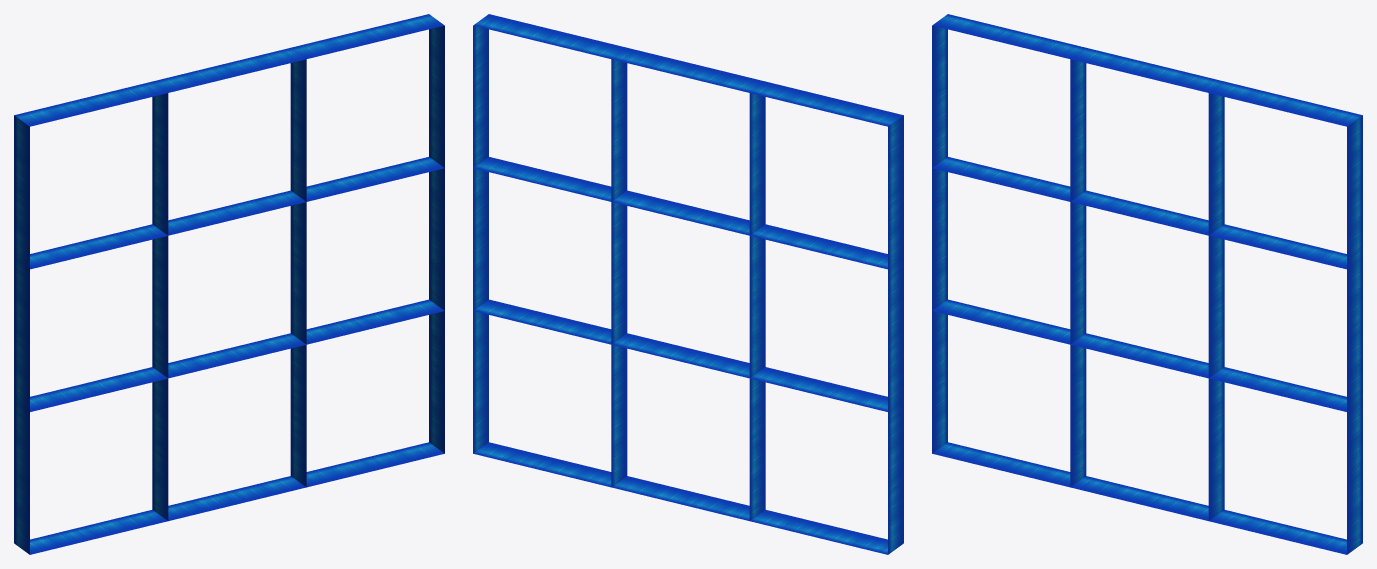
File: tx_shenjie_fuben_03_jiugongge_01.obj
3 views of the same model, side by side, from view 1: azimuth 30°, elevation 25°; view 2: azimuth 150°, elevation 25°; view 3: azimuth 330°, elevation 25° (orthographic).
Parts seen in each view (by area): view 1: Box01; view 2: Box01; view 3: Box01.
Boxes of the visible parts, left/top/right/bottom form: Box01: left=14, top=14, right=444, bottom=554; Box01: left=473, top=14, right=903, bottom=554; Box01: left=932, top=14, right=1362, bottom=554.
Bounding box in the file's own units: 3080 × 3037 × 203.
1 material, 1 textured.
